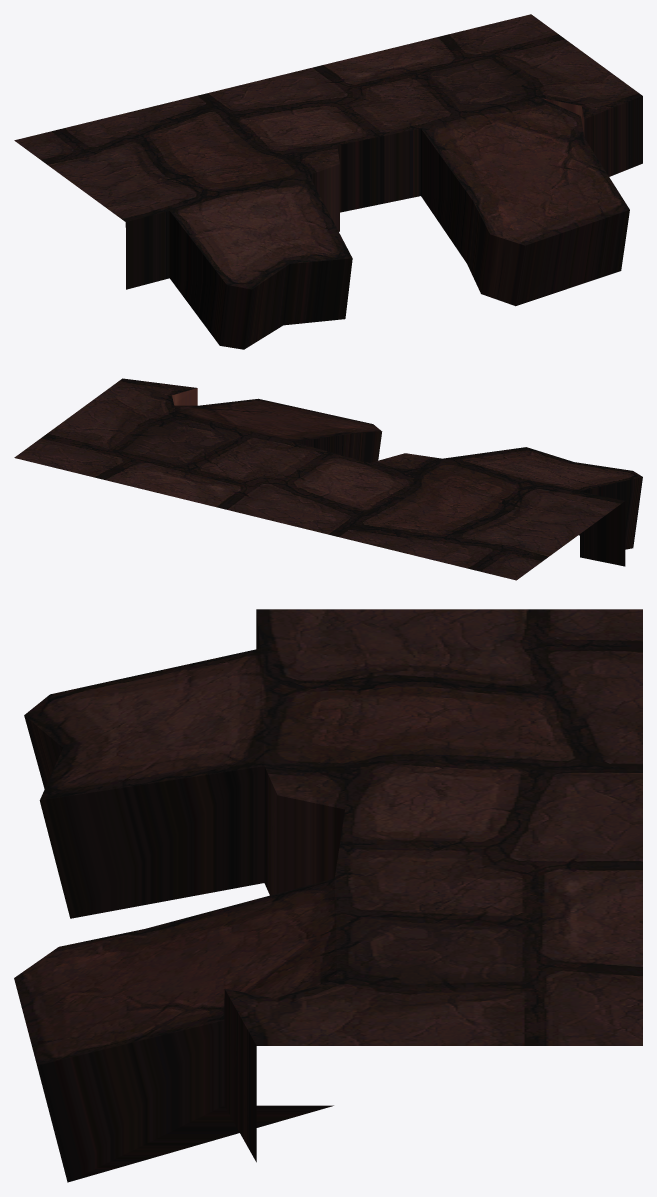
File: lava_floor_brokenstraight_01.fbx
The picture shows the model from 3 angles, top to bottom: view 1: azimuth 30°, elevation 25°; view 2: azimuth 150°, elevation 25°; view 3: azimuth 270°, elevation 25°; orthographic projection. The views are drawn at different scales.
Visible parts, largest first — view 1: obj1.056; view 2: obj1.056; view 3: obj1.056.
Boxes of the visible parts, <box> form: obj1.056: <box>14,14,642,349</box>; obj1.056: <box>14,378,642,580</box>; obj1.056: <box>14,609,642,1182</box>.
Bounding box in the file's own units: 4 × 0.8872 × 2.44.
